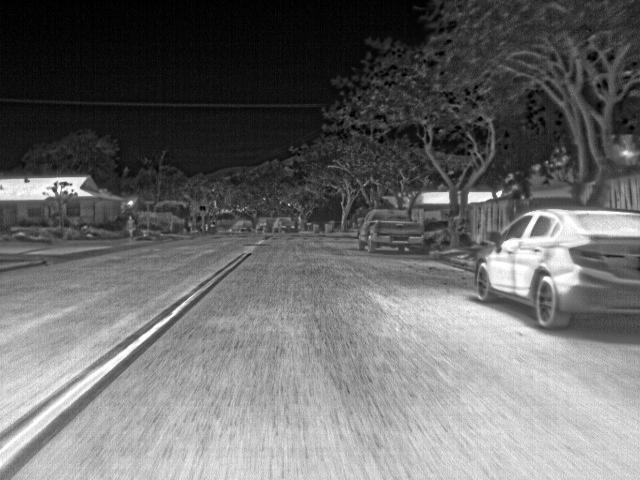car: (473, 206, 639, 329), (358, 207, 425, 254), (270, 216, 296, 234), (230, 218, 253, 232), (253, 216, 272, 232)
person: (124, 213, 136, 238)
